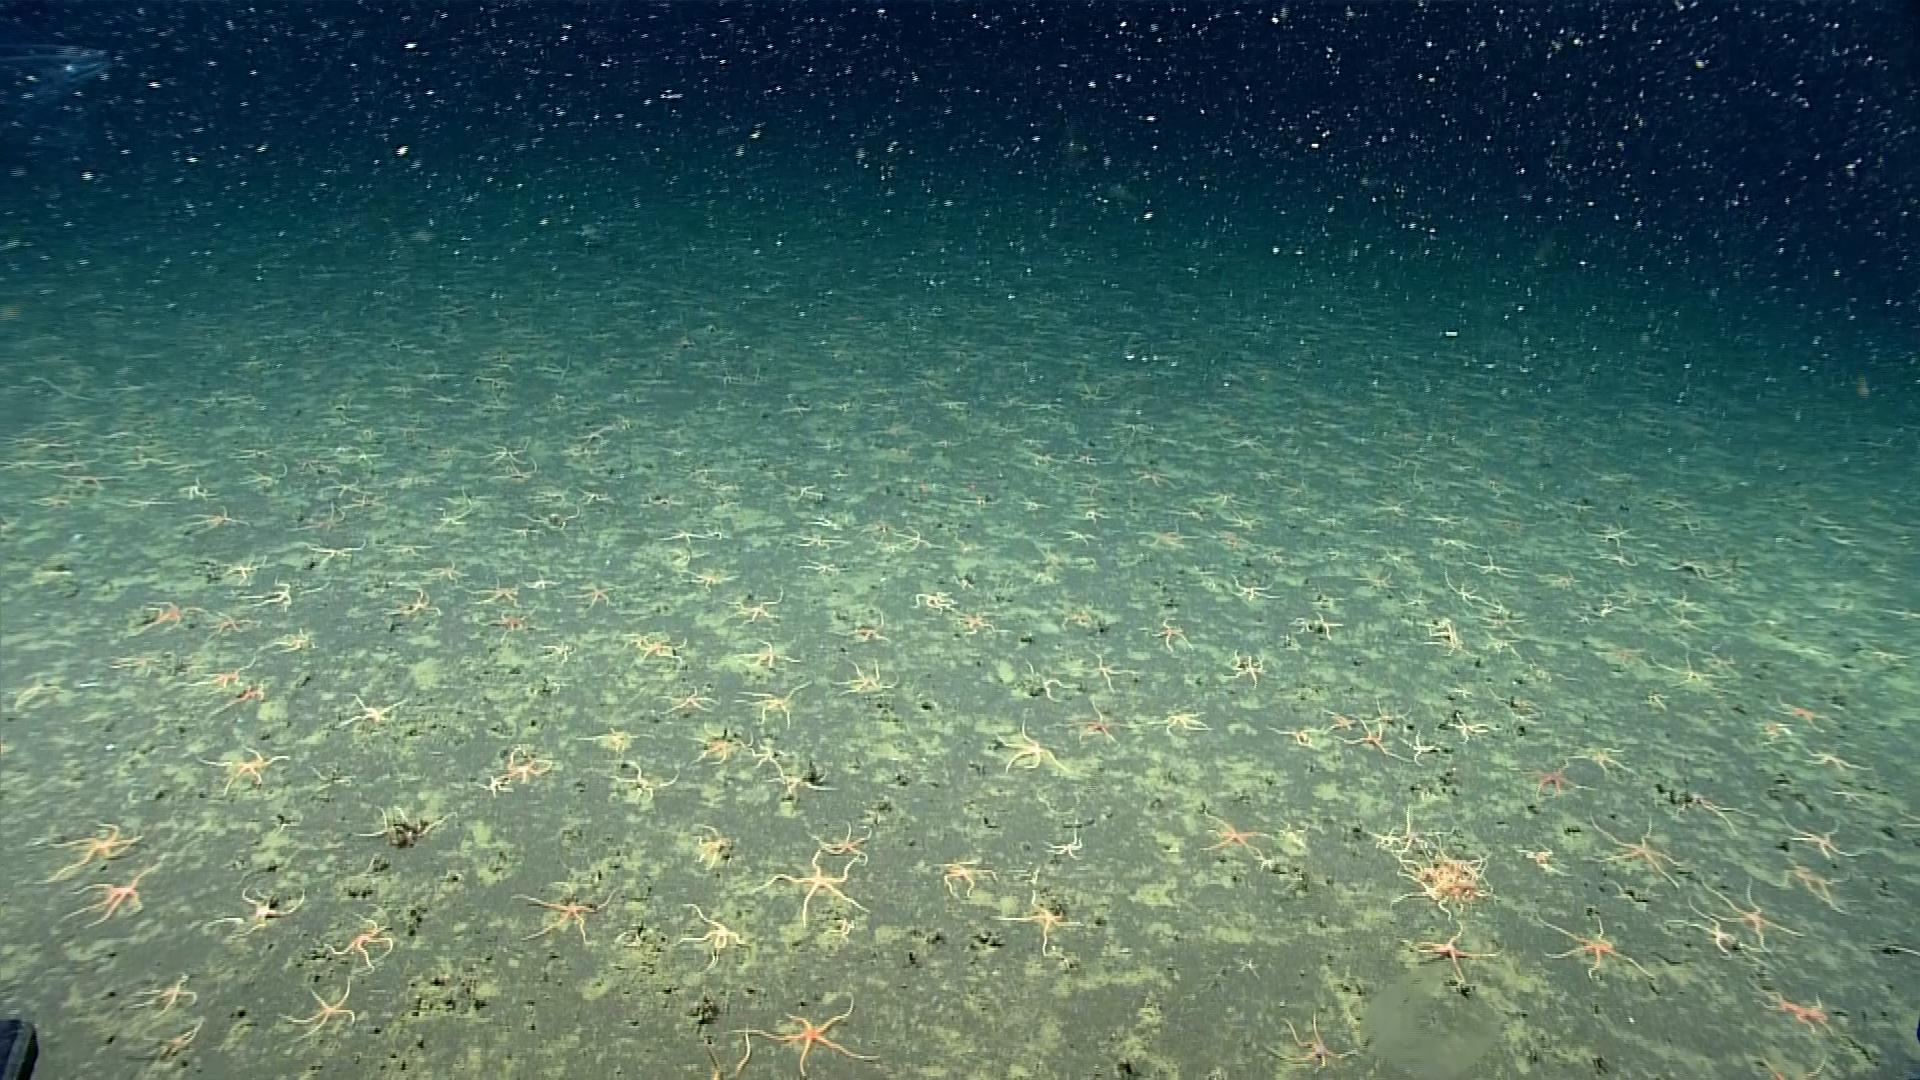brittle_sea_star: (727, 996, 885, 1069), (742, 839, 866, 907), (55, 853, 167, 926), (1538, 916, 1655, 985), (1704, 880, 1809, 953), (1586, 812, 1684, 891), (34, 811, 144, 881), (1404, 923, 1507, 997), (510, 877, 618, 943), (990, 886, 1085, 952), (274, 971, 360, 1039), (204, 878, 310, 934), (314, 903, 398, 971), (673, 898, 750, 968), (1783, 857, 1866, 922), (1667, 891, 1745, 960), (196, 738, 290, 793), (1750, 984, 1837, 1040), (989, 713, 1065, 771), (1667, 786, 1759, 833), (353, 802, 460, 841), (1063, 690, 1139, 742), (1276, 1005, 1336, 1068), (1192, 810, 1269, 858), (798, 807, 872, 857), (119, 592, 206, 633), (735, 674, 811, 720), (127, 965, 200, 1013), (1647, 644, 1725, 688), (1071, 642, 1138, 692), (927, 847, 996, 895), (1335, 715, 1408, 760), (331, 686, 411, 727), (1516, 752, 1594, 794), (1788, 818, 1858, 864), (1394, 799, 1452, 852), (137, 1009, 207, 1052), (475, 599, 554, 636), (828, 653, 901, 692), (607, 752, 676, 793), (717, 582, 785, 622), (1762, 692, 1838, 728), (1018, 654, 1073, 703), (179, 651, 260, 684), (827, 605, 895, 644), (208, 673, 270, 715), (1796, 741, 1873, 774), (1571, 738, 1638, 775), (179, 498, 248, 534), (294, 531, 368, 564), (736, 632, 802, 669), (687, 713, 741, 758), (1145, 698, 1215, 732), (766, 756, 833, 791), (1387, 864, 1444, 906), (1511, 835, 1571, 873), (287, 496, 347, 533), (1141, 609, 1195, 649), (651, 683, 719, 715), (1218, 644, 1269, 686), (509, 500, 584, 527), (691, 820, 735, 868), (1660, 549, 1731, 578), (376, 582, 440, 613), (948, 605, 1013, 637), (235, 574, 297, 607), (462, 571, 522, 604), (500, 742, 554, 779), (1466, 545, 1524, 579), (258, 621, 319, 653), (203, 604, 261, 637), (1441, 567, 1493, 604), (576, 724, 642, 752), (1354, 695, 1416, 724), (1228, 567, 1282, 600), (1399, 721, 1443, 762), (214, 550, 277, 578), (1137, 522, 1203, 549), (1295, 603, 1344, 638), (740, 725, 782, 766), (1443, 705, 1489, 742), (909, 580, 957, 615), (413, 551, 471, 579), (779, 526, 851, 549), (1266, 719, 1323, 746), (1588, 514, 1644, 542), (658, 518, 719, 543), (1480, 629, 1530, 659), (1040, 819, 1083, 855), (1473, 608, 1528, 634), (563, 580, 616, 607), (891, 521, 934, 554), (473, 436, 529, 462), (431, 498, 475, 530), (633, 634, 684, 661), (1349, 566, 1400, 592), (682, 562, 736, 587), (1821, 778, 1878, 802), (1051, 599, 1095, 629), (1193, 480, 1247, 504), (794, 551, 851, 574), (1317, 703, 1361, 732), (1216, 504, 1266, 529), (105, 646, 165, 667), (1366, 491, 1411, 517), (1423, 626, 1469, 651), (1163, 497, 1209, 521), (1126, 463, 1175, 485), (345, 485, 390, 509), (1503, 696, 1545, 721), (571, 481, 615, 505), (1420, 504, 1464, 527), (1305, 583, 1348, 607), (1545, 562, 1585, 587), (1429, 529, 1478, 549), (1414, 609, 1456, 632), (473, 769, 513, 793), (1056, 524, 1100, 545), (1589, 592, 1630, 615), (1230, 955, 1266, 980), (1366, 824, 1402, 849), (319, 472, 364, 492), (1597, 546, 1638, 567), (1665, 611, 1709, 630), (1665, 585, 1700, 611), (1398, 584, 1433, 608), (1373, 541, 1408, 564), (1633, 686, 1669, 707), (1014, 491, 1052, 510), (1072, 505, 1109, 524), (1640, 585, 1665, 608), (1482, 596, 1516, 612), (1323, 542, 1344, 556)
